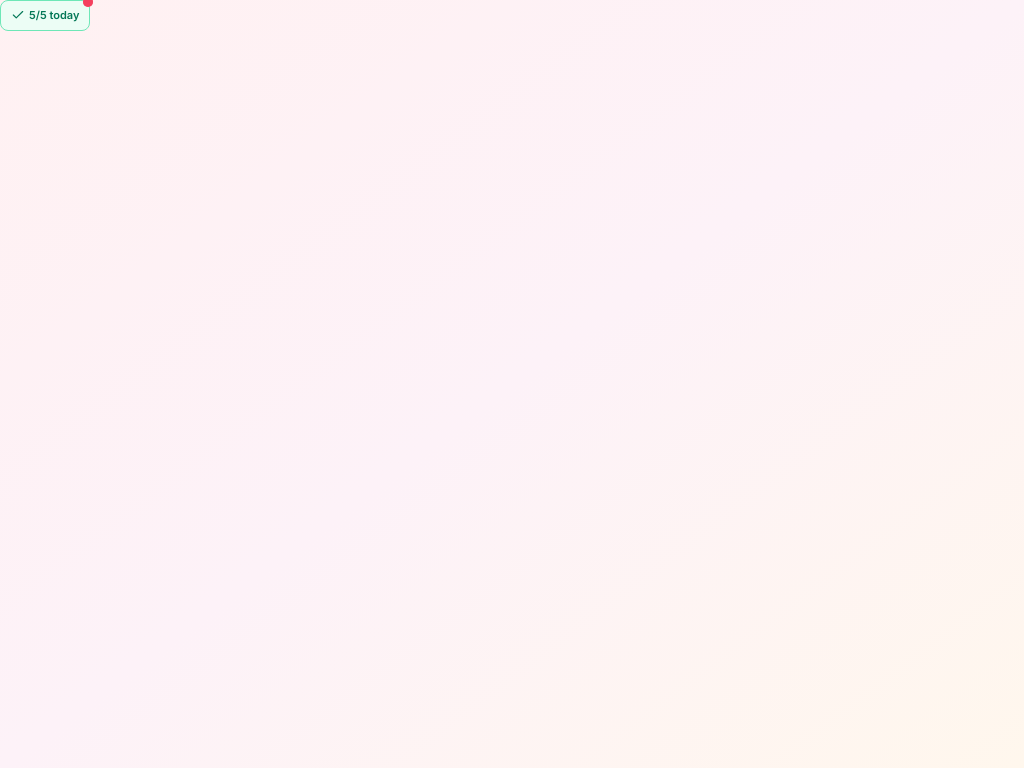
Test: objectives button › links to the leaderboard and says when the set is complete
Later steps or results of the test are not shown.
Step 1. Click the button with aria-label "5 of 5" → click(45, 15), box [0,0,90,30]
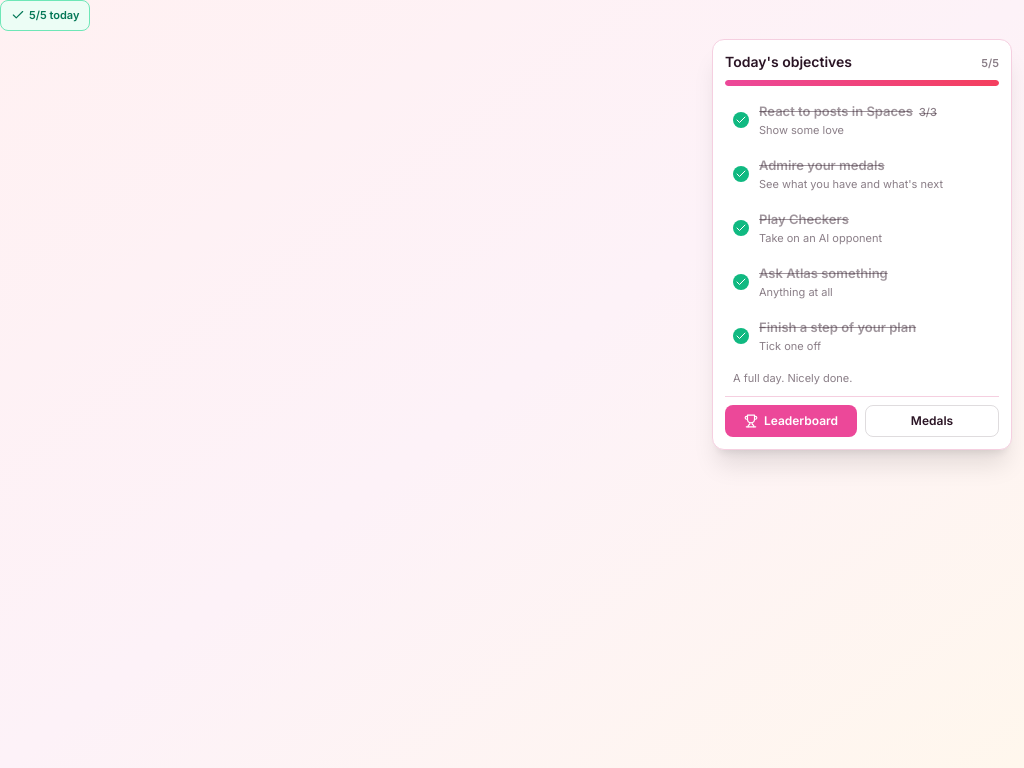
Check: the text "A full day. Nicely done." is shown, box [733,371,852,385]
